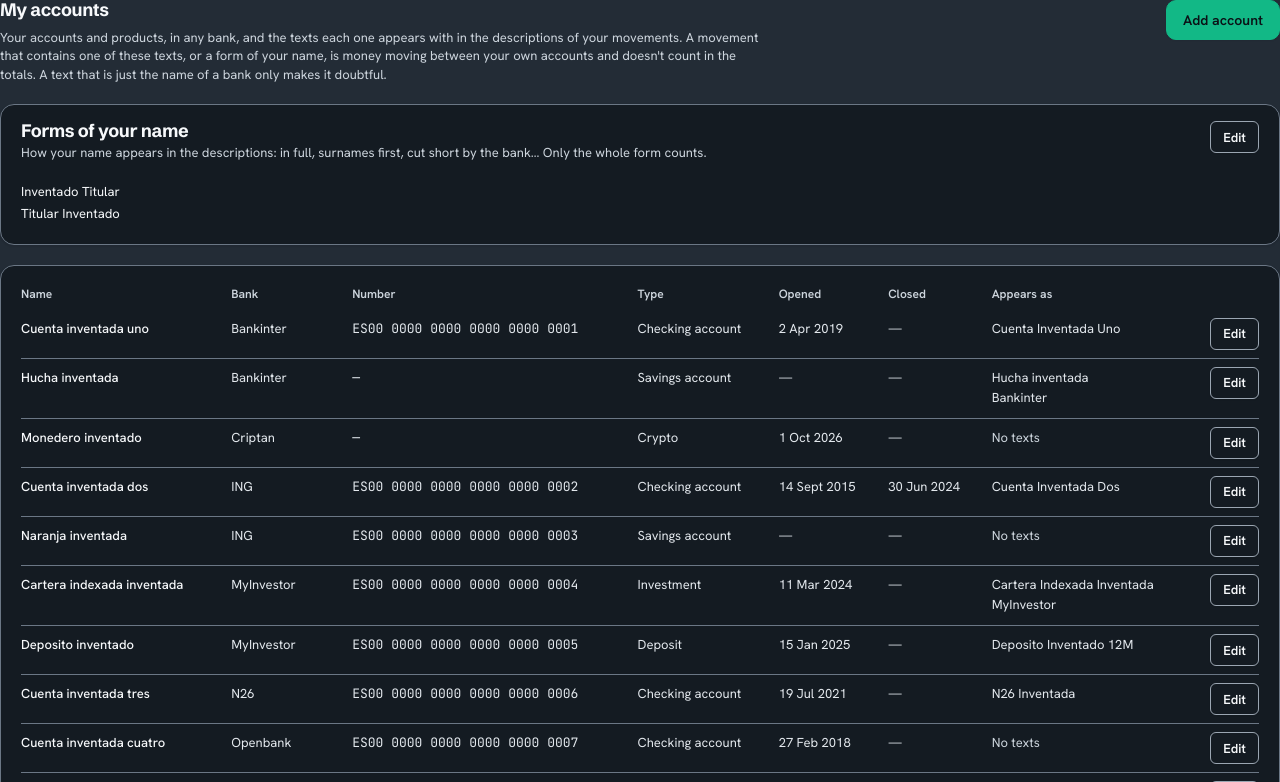
OwnAccountsView › editing a row from its Edit button shows the change
Click the button "Edit" in the row of "Naranja inventada".
click(1235, 541)  # box [1210,525,1259,557]
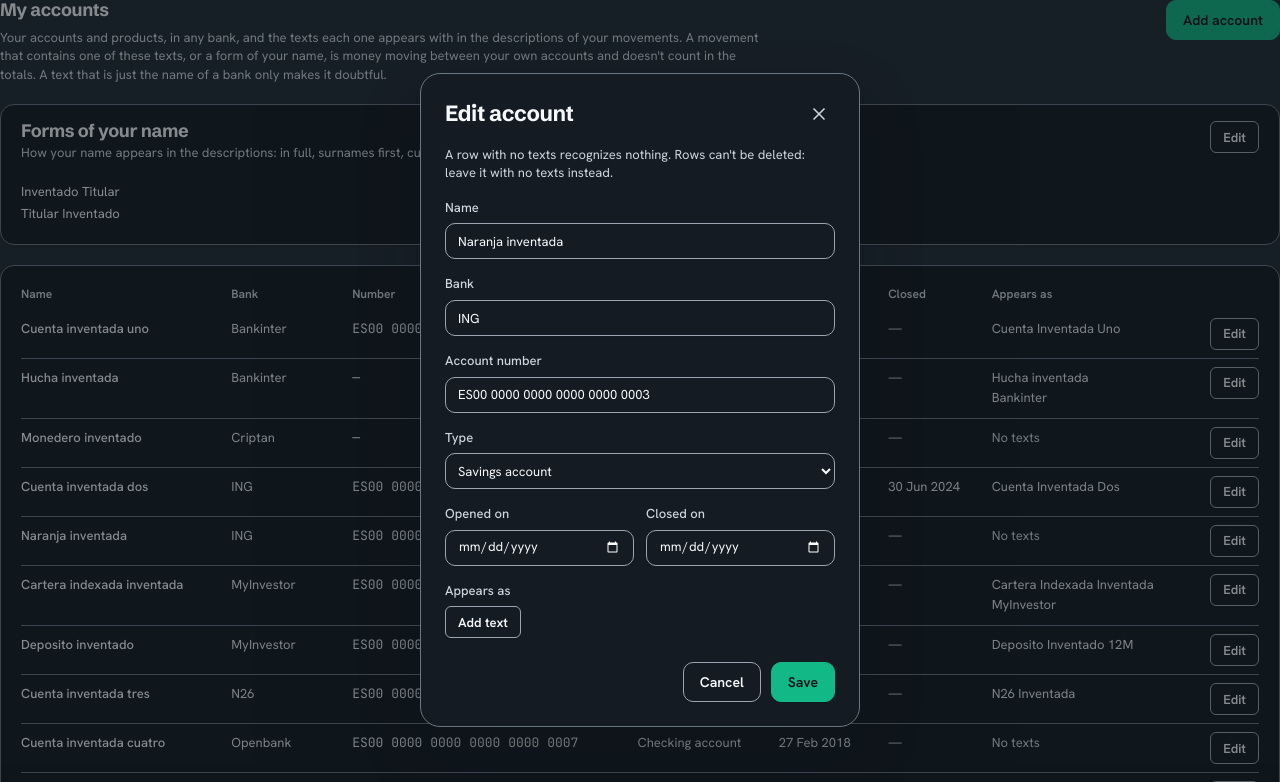
Now the heading "Edit account" is shown, box [445,101,573,126]
Now the field labelled "Name" holds "Naranja inventada", box [445,223,835,259]
Click the button with test id "text-list-add".
click(483, 622)  # box [445,606,521,638]
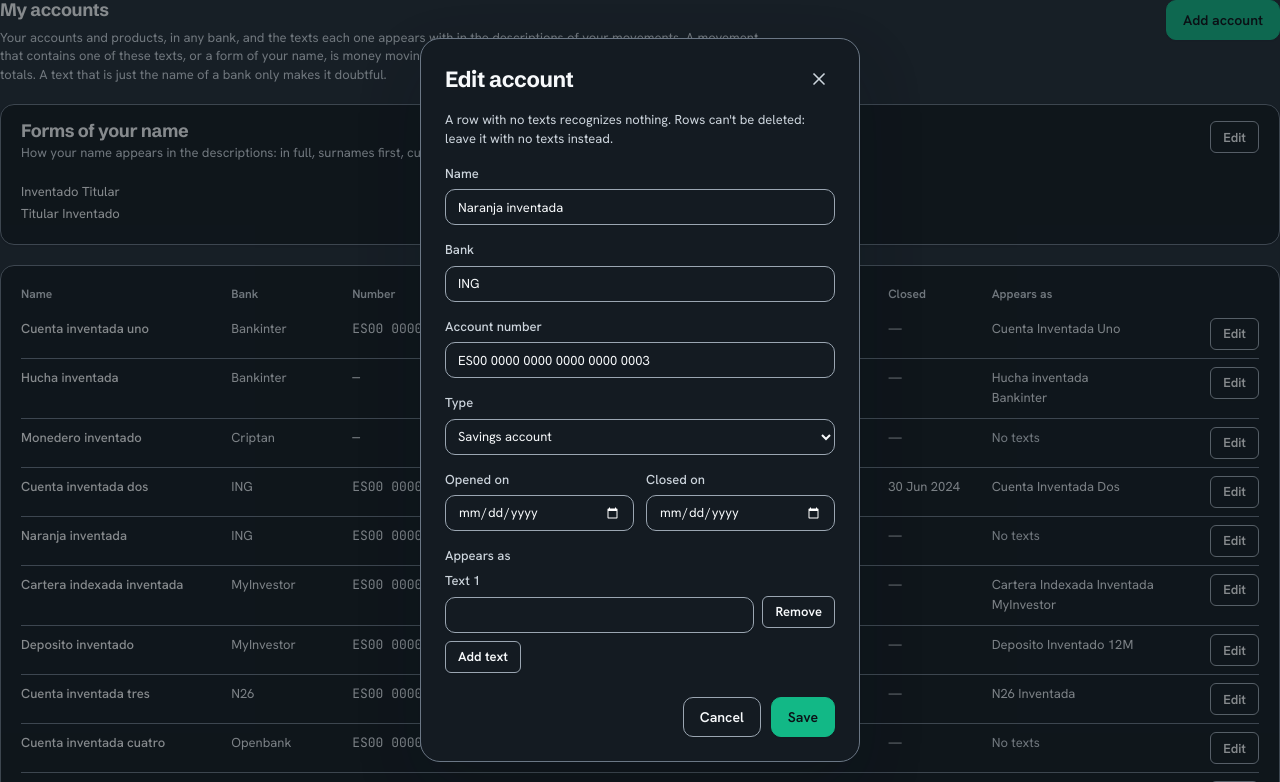
Click the button with test id "text-list-add".
click(483, 656)  # box [445,640,521,672]
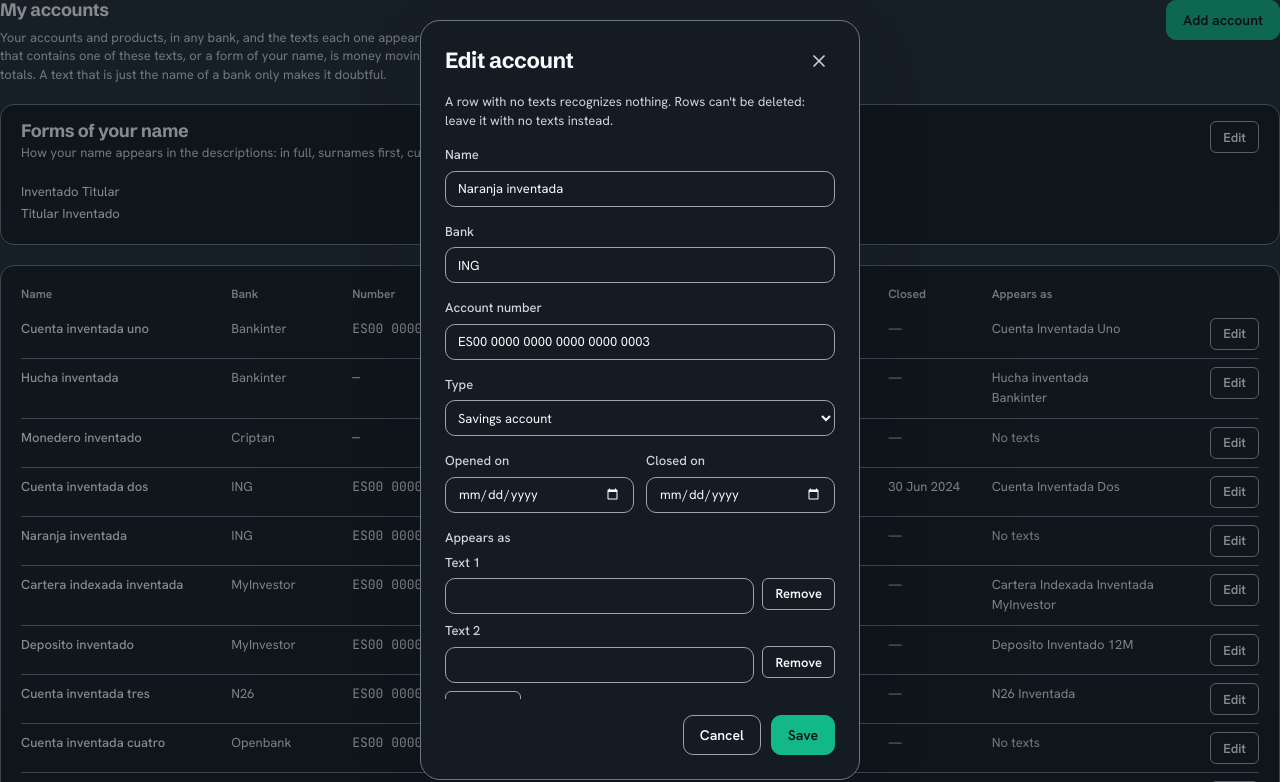
Type "Naranja Inventada" into the field labelled "Text 1".
click(600, 596); type("Naranja Inventada")  # box [445,578,754,614]
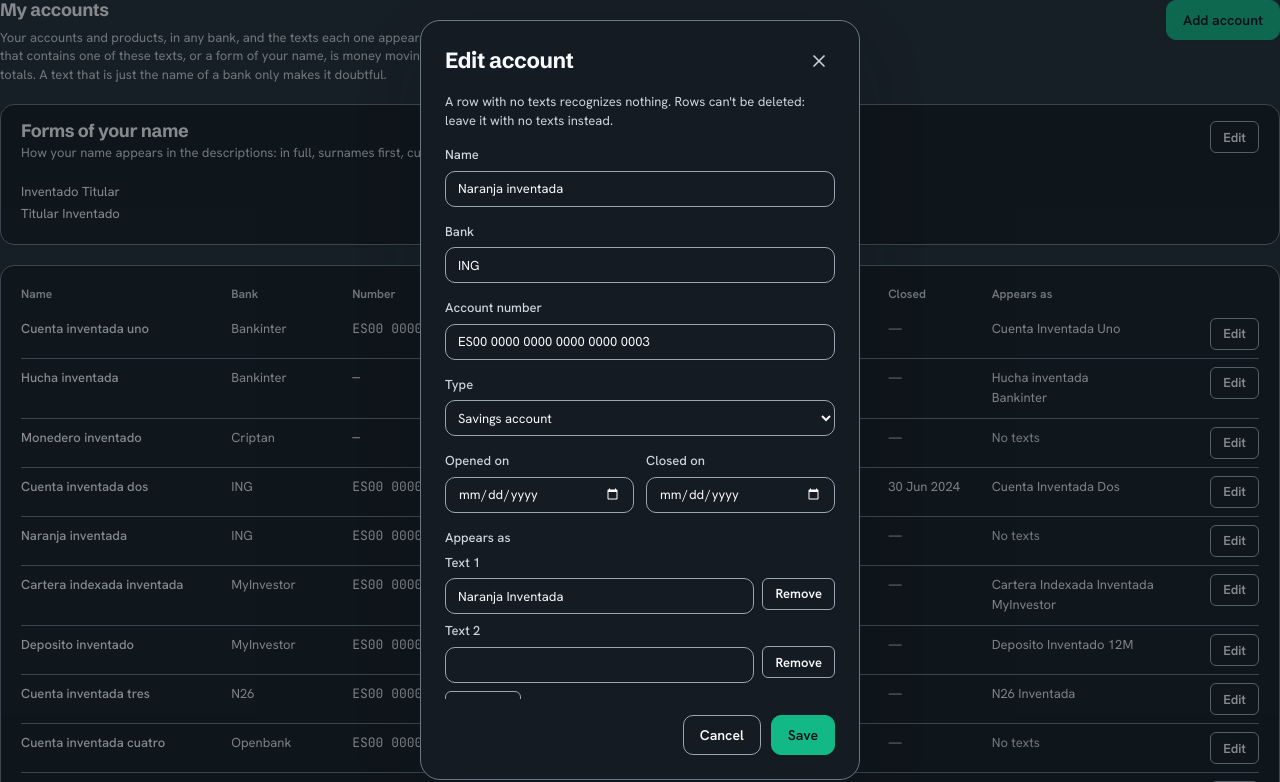
Type "Ahorro Naranja Inventado" into the field labelled "Text 2".
click(600, 665); type("Ahorro Naranja Inventado")  # box [445,647,754,683]
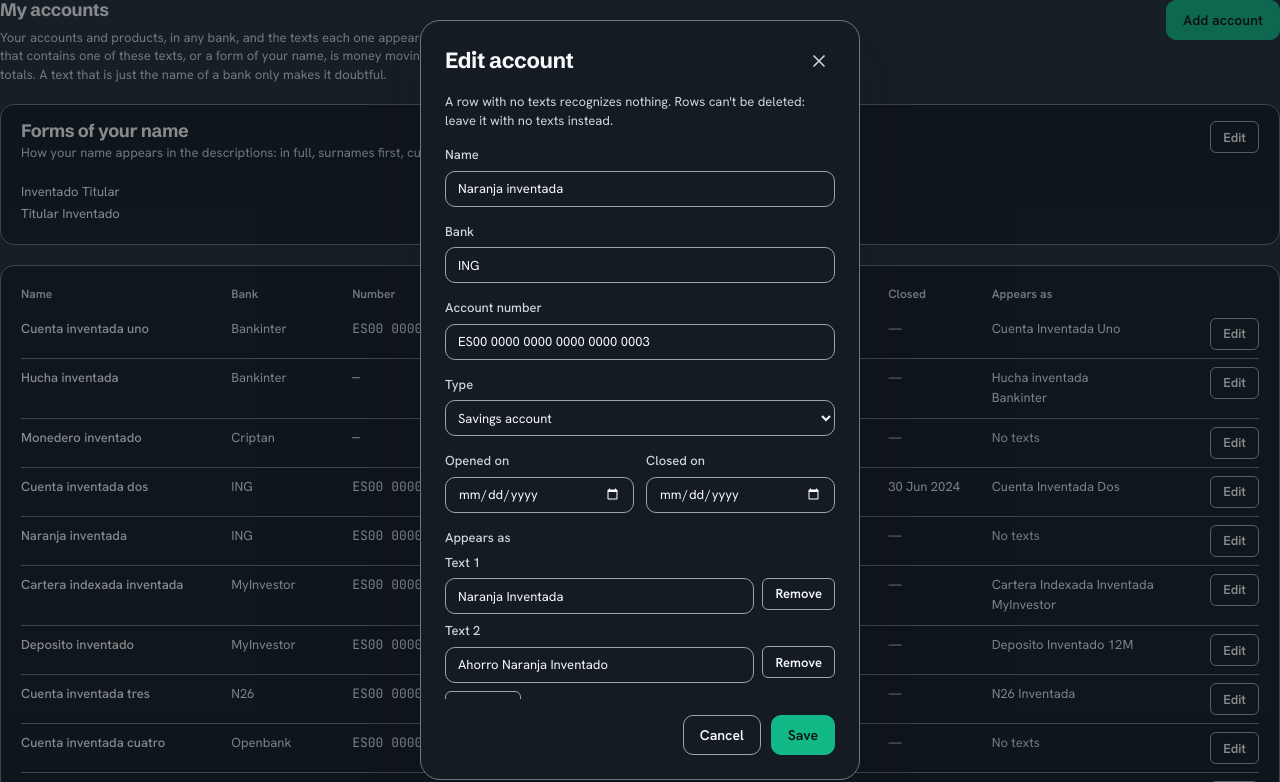
Click the button with test id "account-save".
click(803, 735)  # box [771,715,835,755]
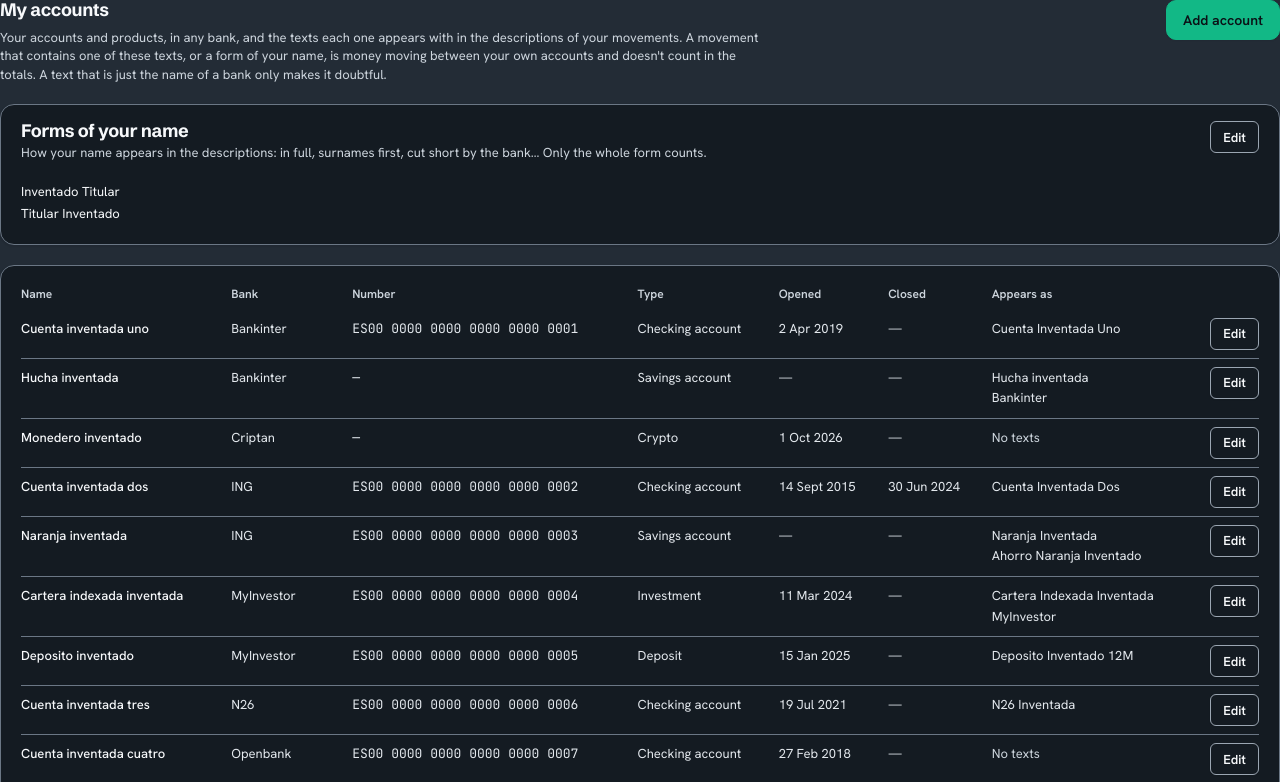
Now the dialog with test id "account-dialog" is gone
